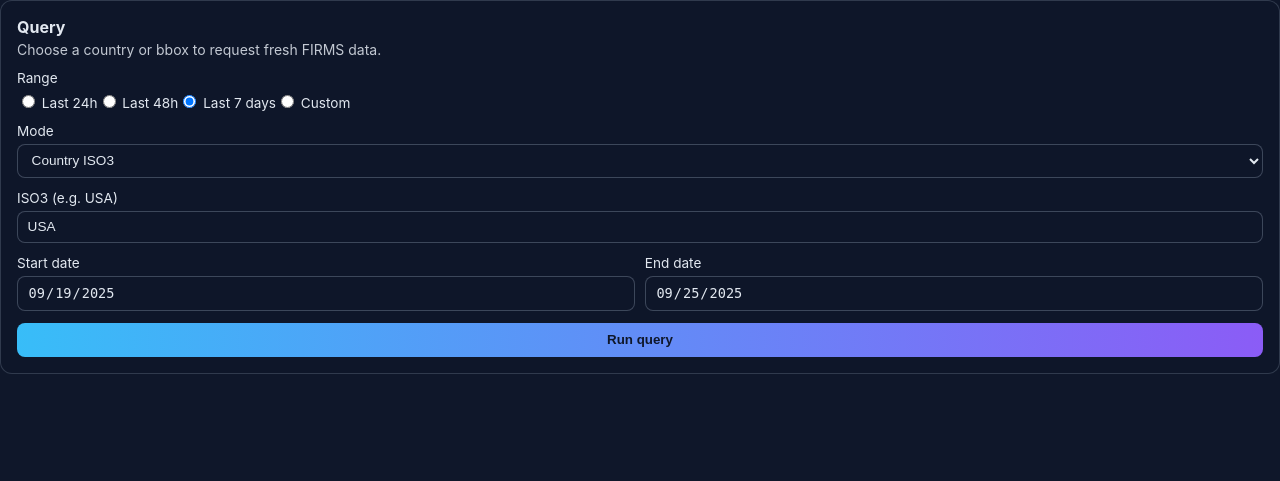
Test: QueryPanel › validates bbox coordinates
Select "Custom bbox" in the dropdown labelled "Mode" at (640, 161), box [17,144,1263,178]
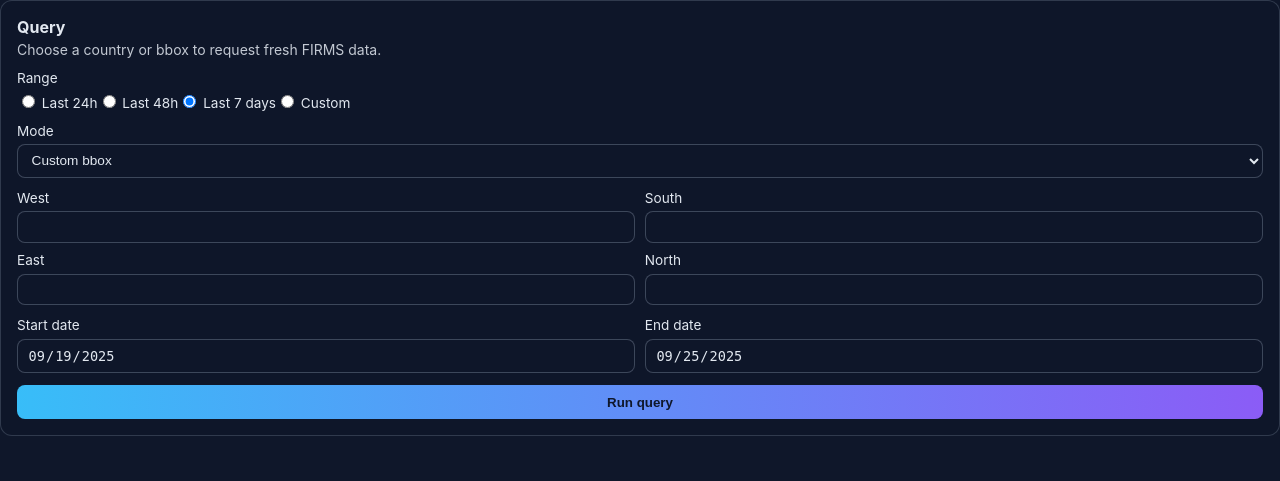
Click the button "Run query" at (640, 402), box [17,385,1263,419]
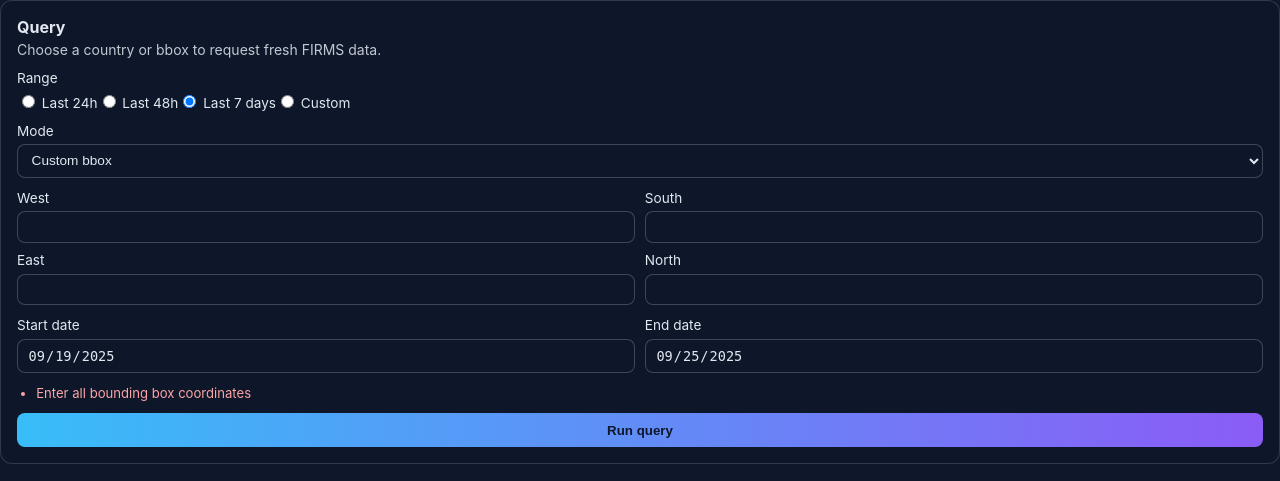
Expected: the list item "Enter all bounding box coordinates" is shown, [36,385,251,401]
